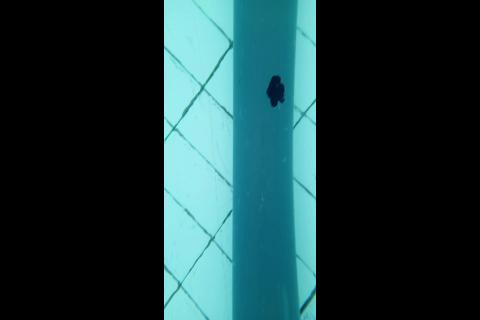kebocoran: (264, 72, 286, 107)
